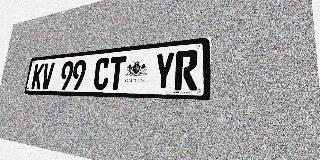9: (71, 59, 87, 90), (59, 61, 74, 89)
C: (93, 57, 111, 90)
K: (31, 63, 45, 89)
R: (174, 49, 198, 90)
T: (108, 56, 127, 90)
V: (40, 62, 55, 89)
Y: (153, 52, 175, 90)
